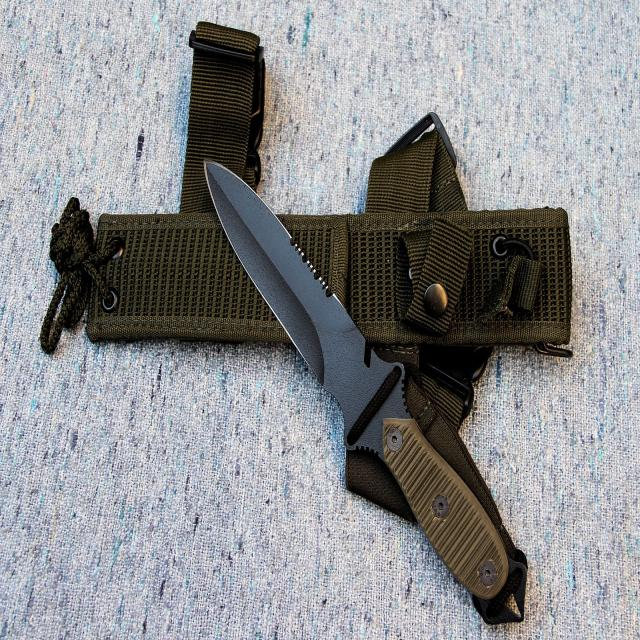knife: (201, 149, 531, 626)
